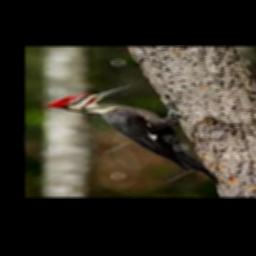Woodpecker: (48, 84, 218, 183)
